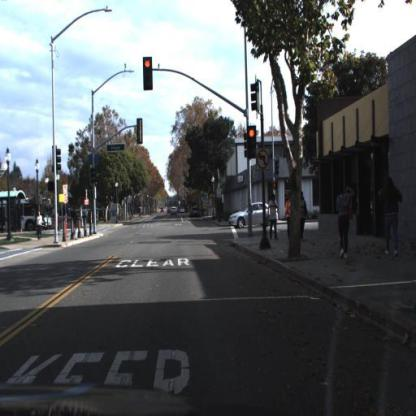car: (228, 200, 274, 231)
pedestrian: (379, 173, 405, 261), (335, 189, 355, 262), (337, 183, 352, 256), (298, 189, 309, 244), (266, 191, 278, 240), (35, 209, 47, 241), (286, 192, 293, 241), (37, 207, 46, 242), (71, 202, 80, 236)
trafficLight-Red: (140, 57, 155, 93), (246, 125, 258, 162), (249, 128, 256, 154)
truck: (1, 198, 52, 231)
